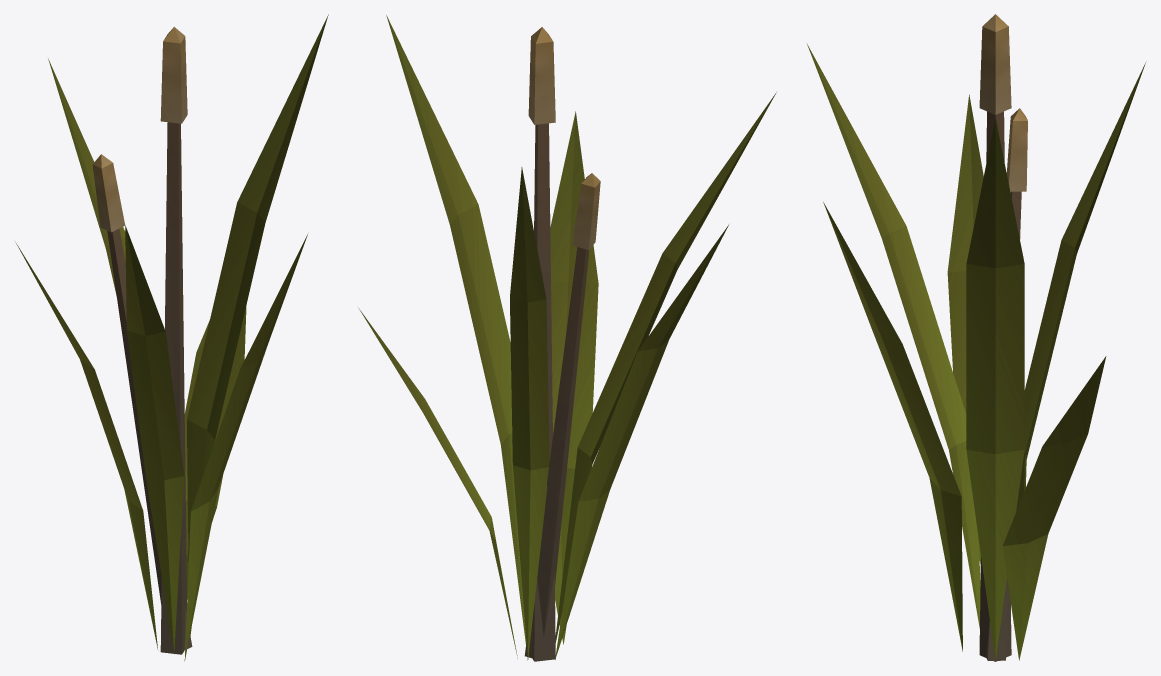
The model's file is Plant_7.fbx.
The picture shows the model from 3 angles, left to right: view 1: azimuth 30°, elevation 25°; view 2: azimuth 150°, elevation 25°; view 3: azimuth 270°, elevation 25°; orthographic projection. The views are drawn at different scales.
Visible parts, largest first — view 1: polySurface10622; view 2: polySurface10622; view 3: polySurface10622.
Part boxes in pixels (bbox=[...]): polySurface10622: bbox=[15, 14, 328, 661]; polySurface10622: bbox=[358, 15, 776, 661]; polySurface10622: bbox=[806, 14, 1146, 661].
Bounding box in the file's own units: 89.87 × 164 × 78.54.
